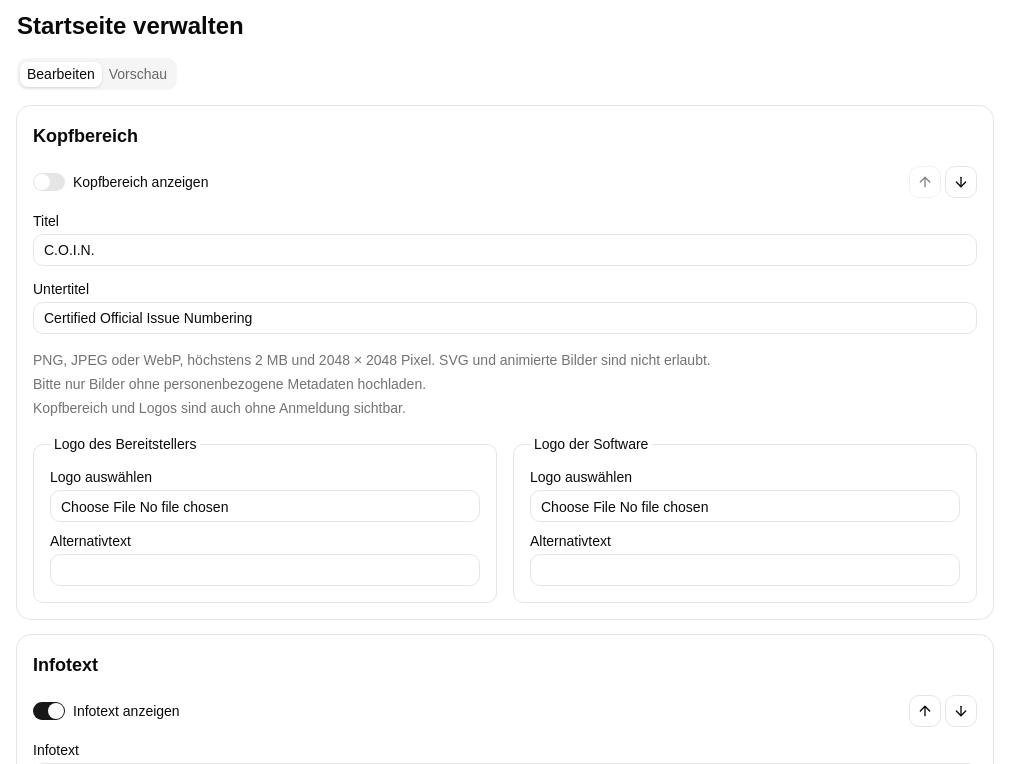
Test: Vorschau (AK-29) › behält in der Vorschau genau ein h1
The image size is (1011, 764).
Step 1. Click the switch named "Kopfbereich anzeigen" next to "Kopfbereich anzeigen" → point(49, 182), box [33, 173, 65, 191]
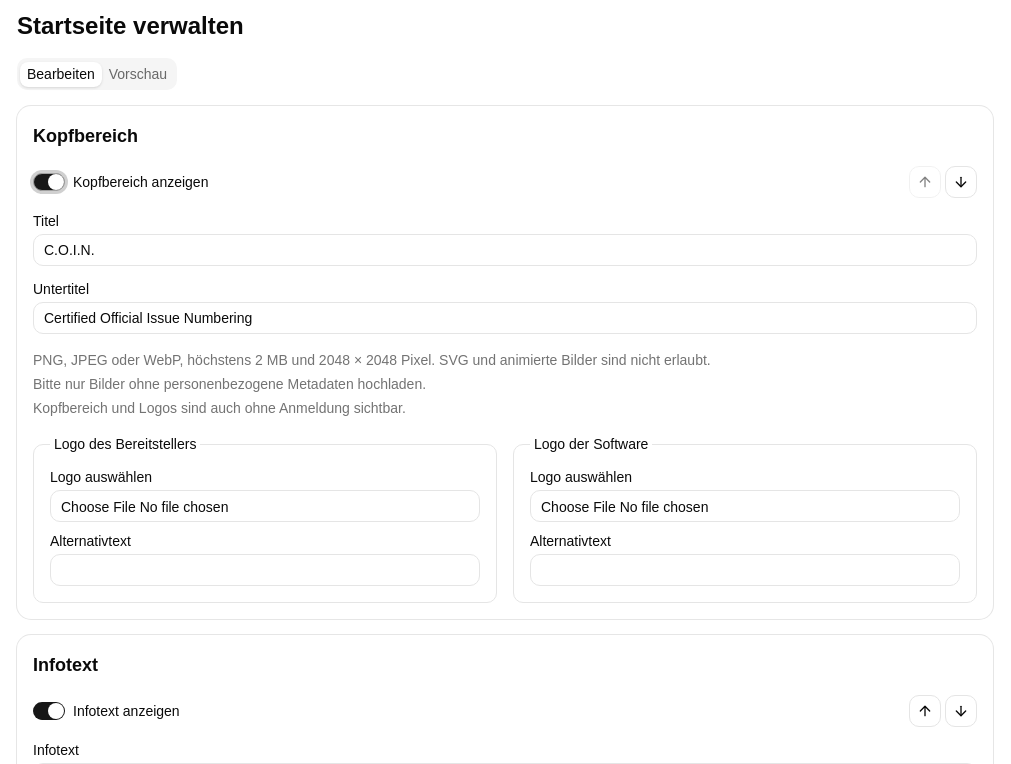
Step 2. Click the tab "Vorschau" → point(138, 74), box [102, 62, 174, 86]
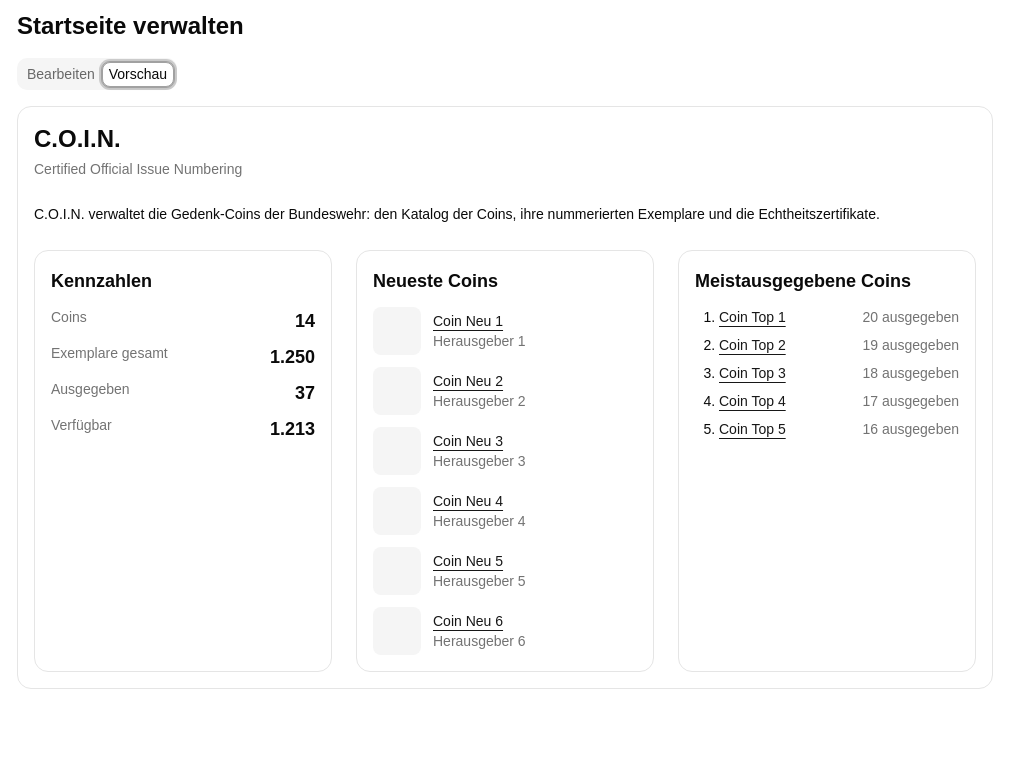
Result: the heading "C.O.I.N." is shown at [34, 125, 121, 152]
